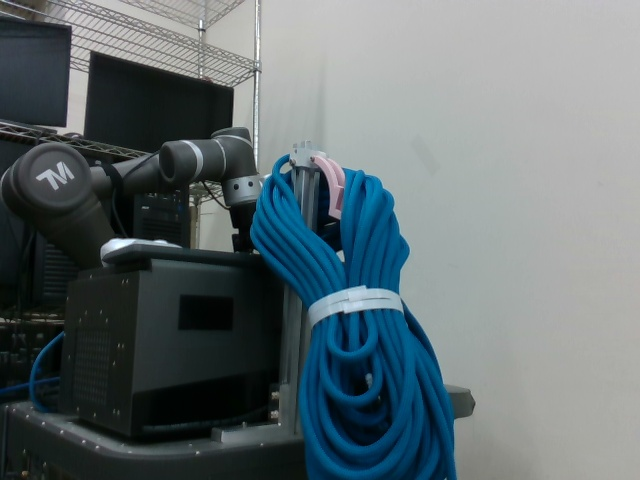rope: (252, 143, 462, 480)
